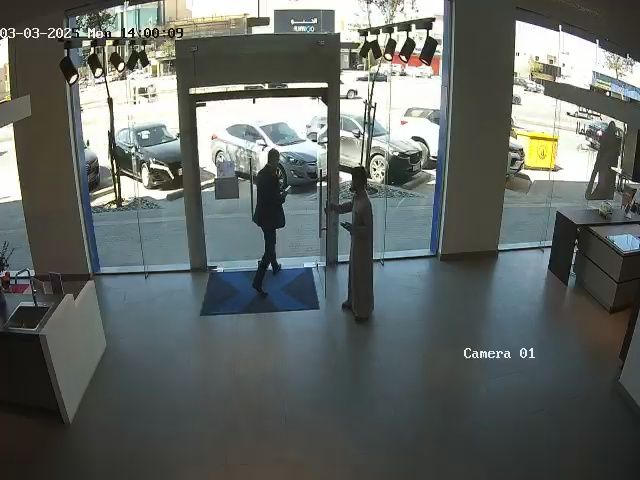employee: (251, 148, 289, 295)
male: (341, 152, 385, 340)
